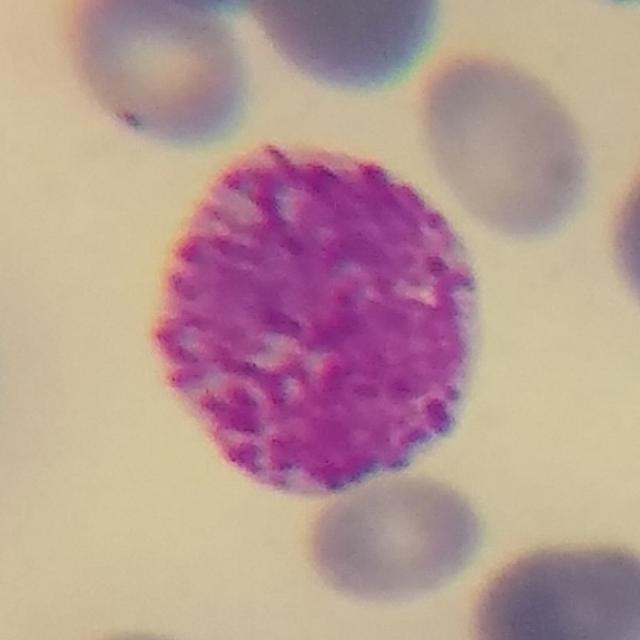baso: (152, 141, 480, 499)
